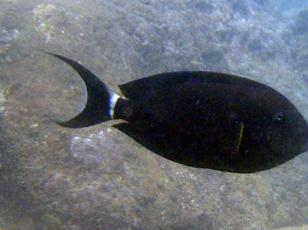Acanthuridae -Surgeonfishes-: (44, 49, 308, 173)
